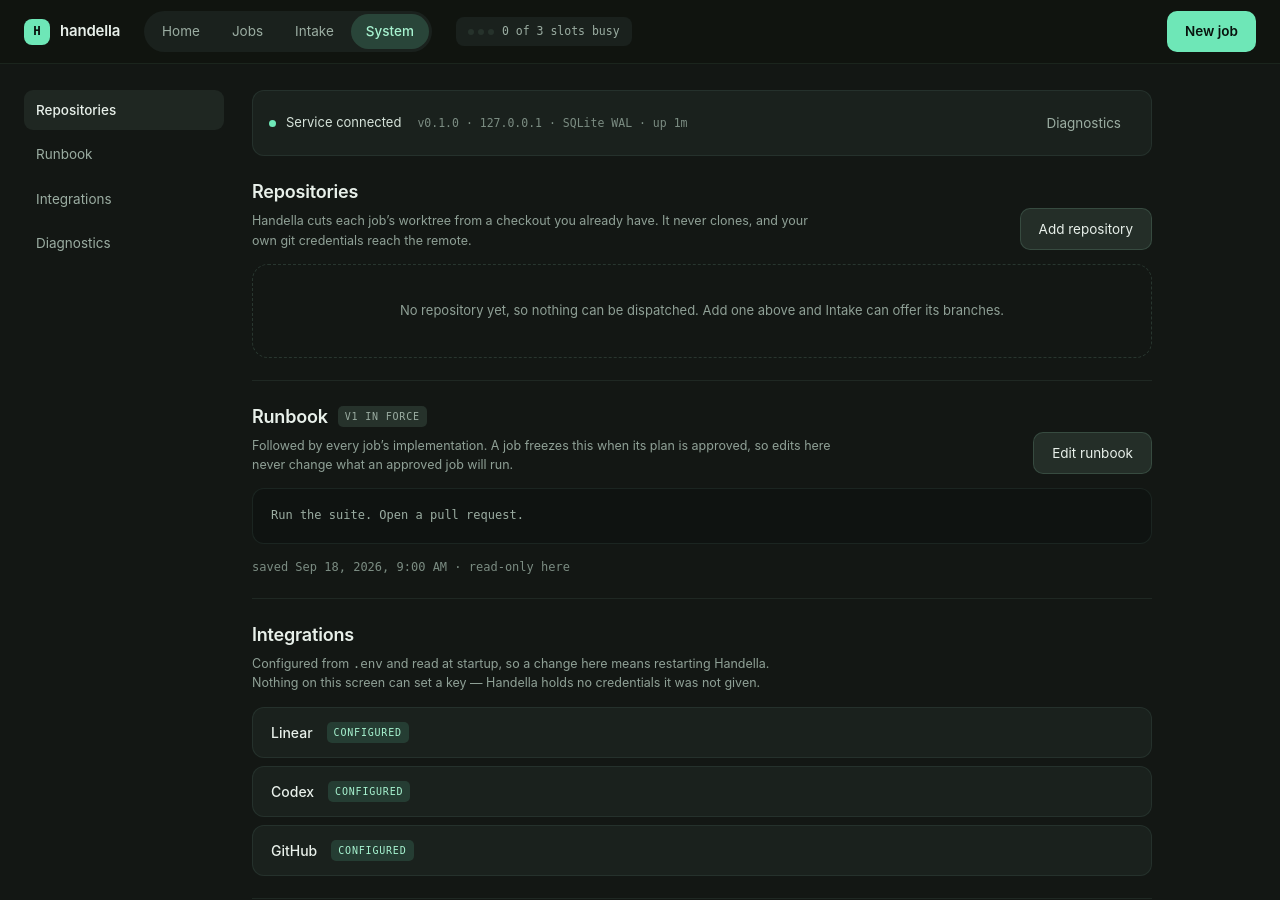
Scenario: choosing a path instead of typing one › fills the field from the native dialog
The image size is (1280, 900).
What coordinates should you click on to do the following:
click the button "Add repository"
I would click on:
 (1086, 229)
Its box is [1020,208,1152,250].
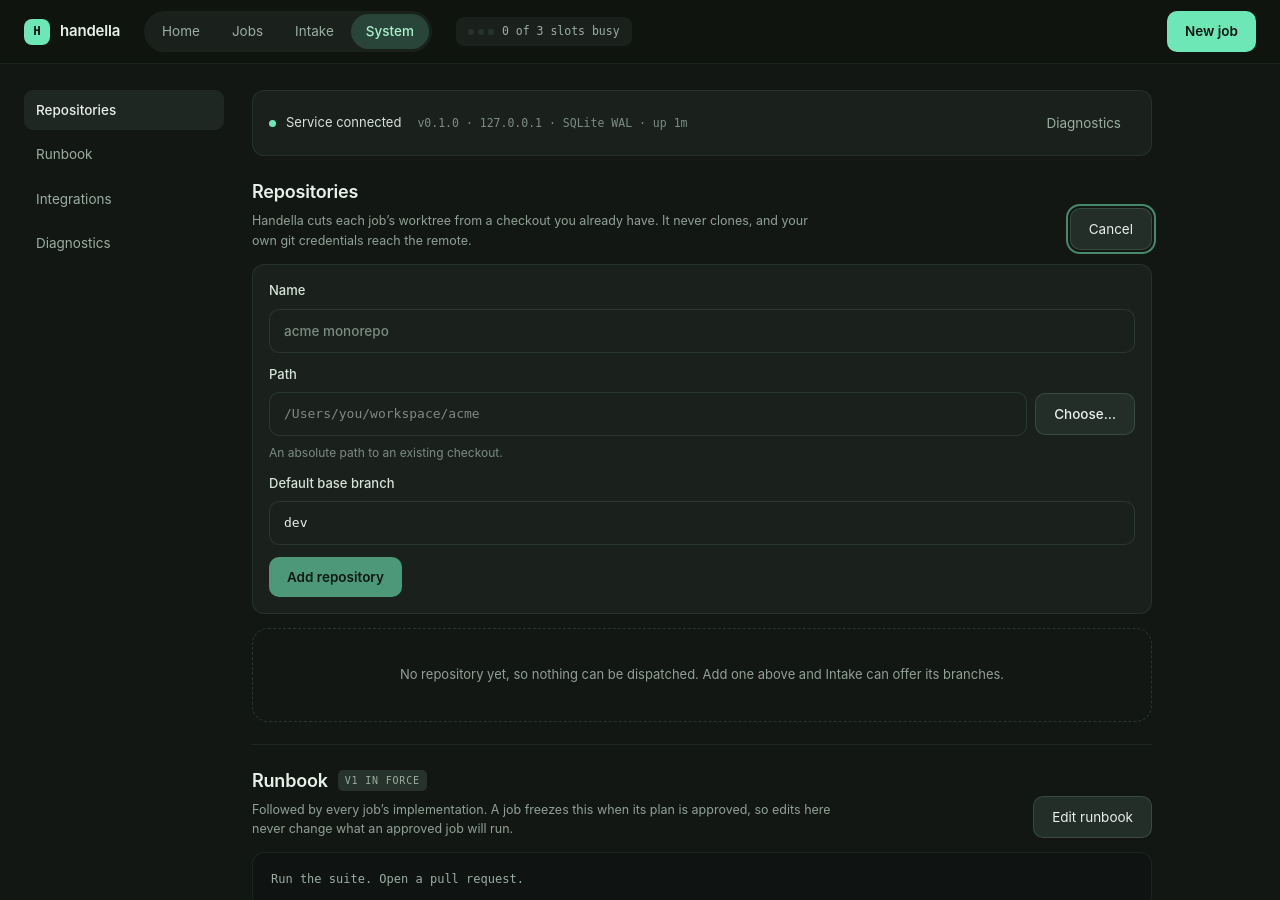
What coordinates should you click on to do the following:
click the button "Choose…"
I would click on:
 (1085, 414)
Its box is [1035,393,1135,435].
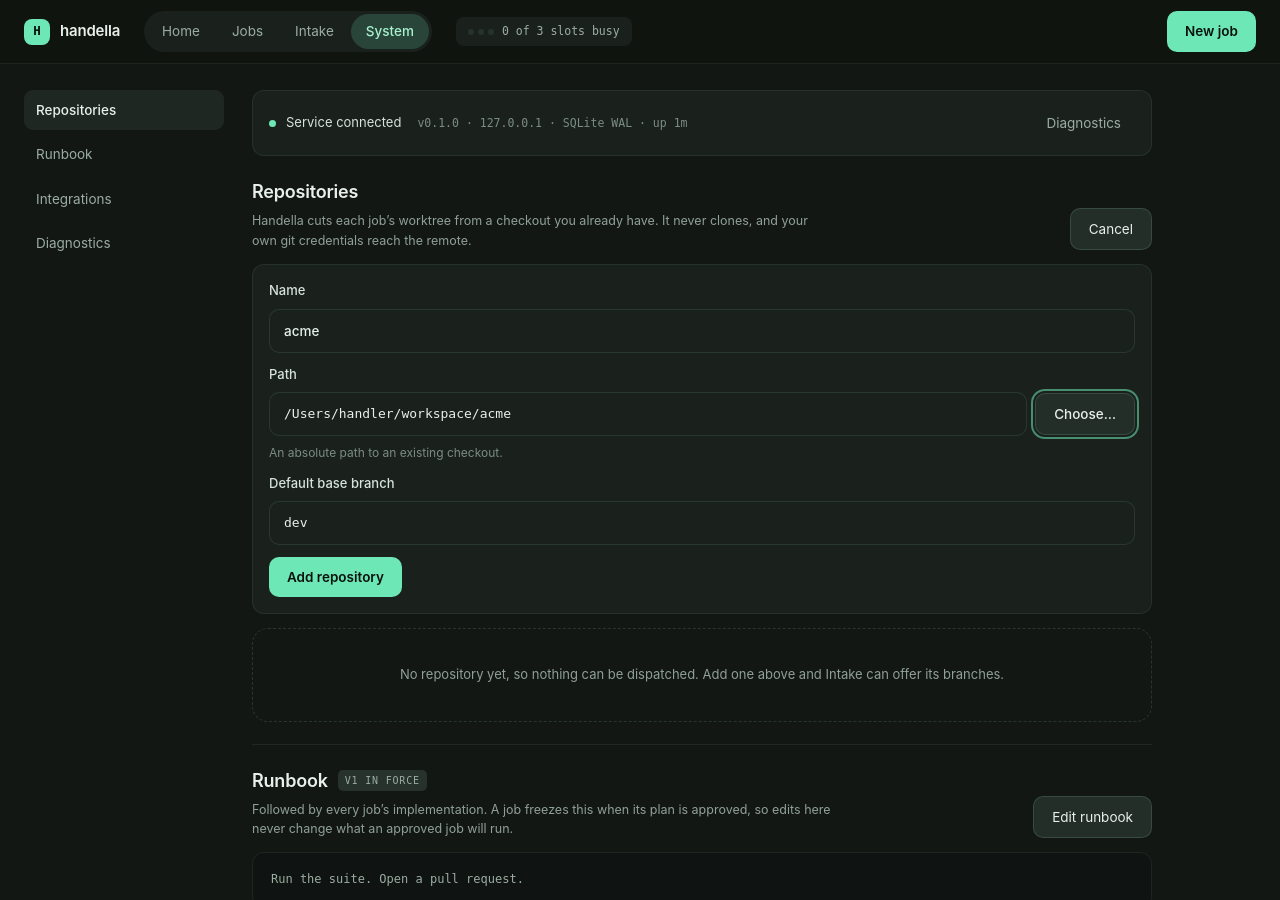
Expected: the field labelled "Path" holds "/Users/handler/workspace/acme", [269,392,1027,436]
Expected: the field labelled "Name" holds "acme", [269,308,1135,353]
